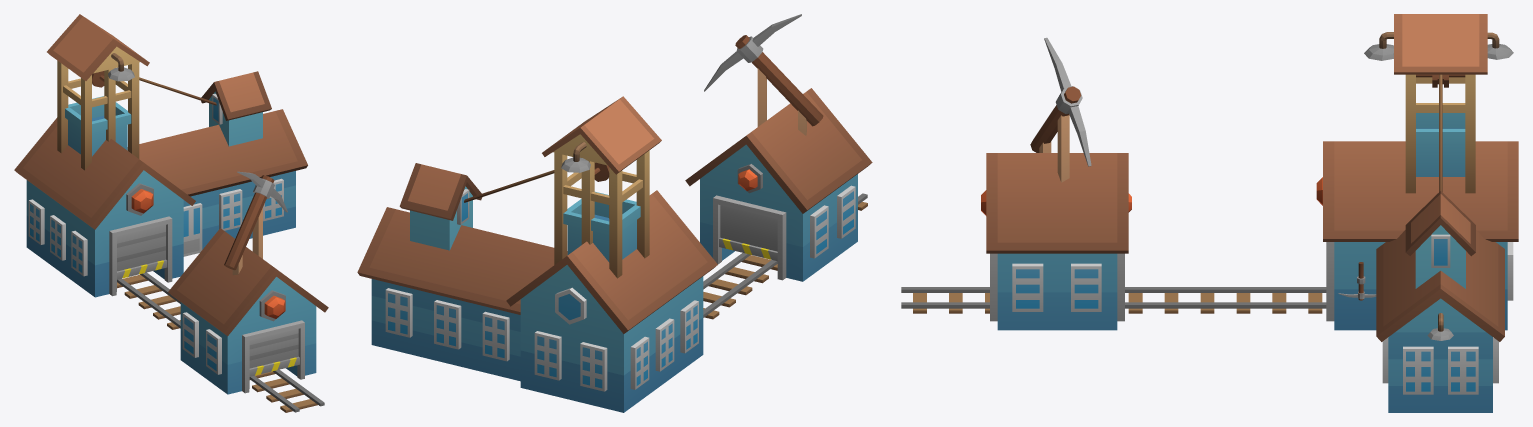
File: mine house.fbx
3 renders of one model, left to right at view 1: azimuth 30°, elevation 25°; view 2: azimuth 150°, elevation 25°; view 3: azimuth 270°, elevation 25°, orthographic. The views are drawn at different scales.
Parts seen in each view (by area): view 1: mine_house; view 2: mine_house; view 3: mine_house.
Boxes of the visible parts, left/top/right/bottom form: mine_house: left=14, top=14, right=328, bottom=412; mine_house: left=357, top=14, right=872, bottom=412; mine_house: left=901, top=14, right=1518, bottom=412.
Bounding box in the file's own units: 1138 × 991 × 1916.
1 material, 1 textured.
